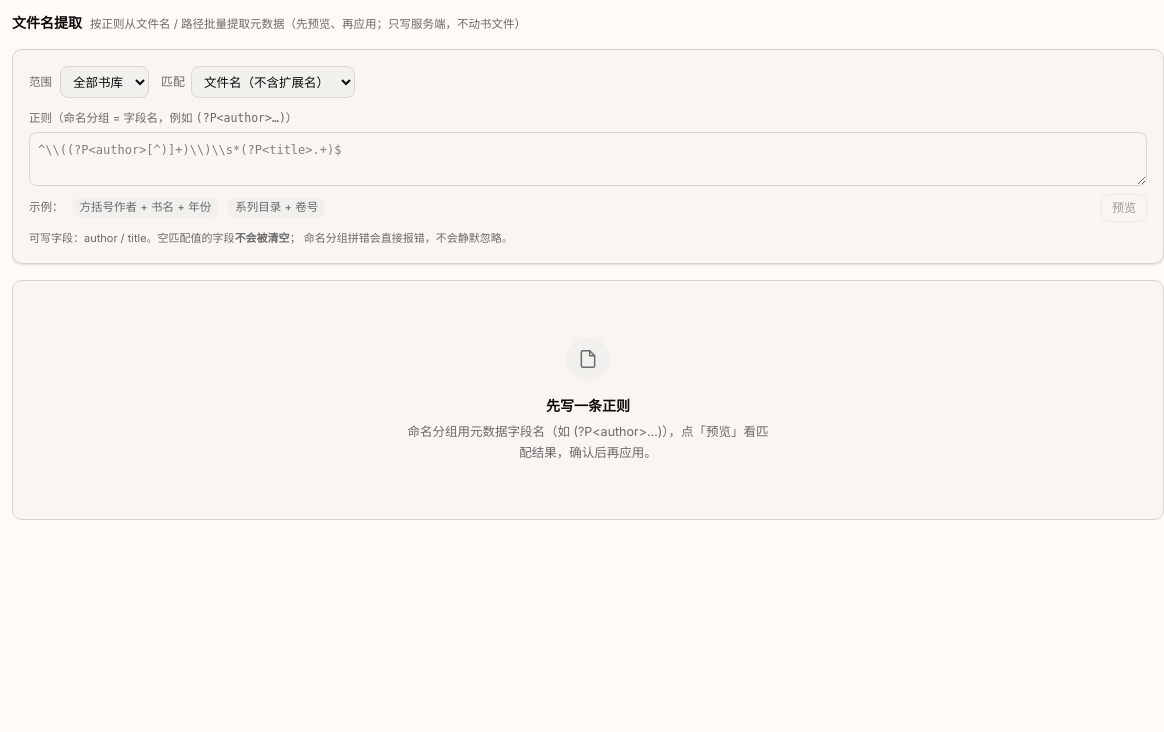
PathImportView › 应用：写入后重新预览（「会改写」归零），并显示回执
Type "^(?P<author>.+)$" into the text box named "提取正则" at point(588, 158), box [29, 132, 1147, 186]
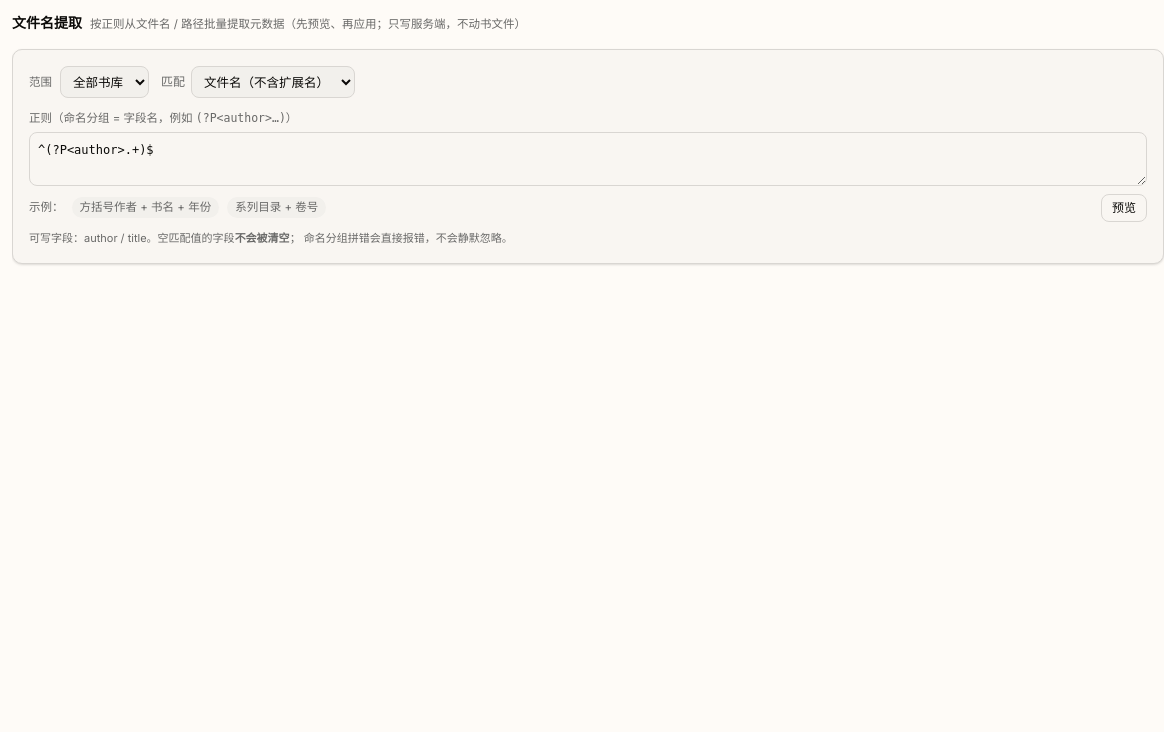
Click the button "预览" at point(1124, 208), box [1101, 194, 1147, 222]
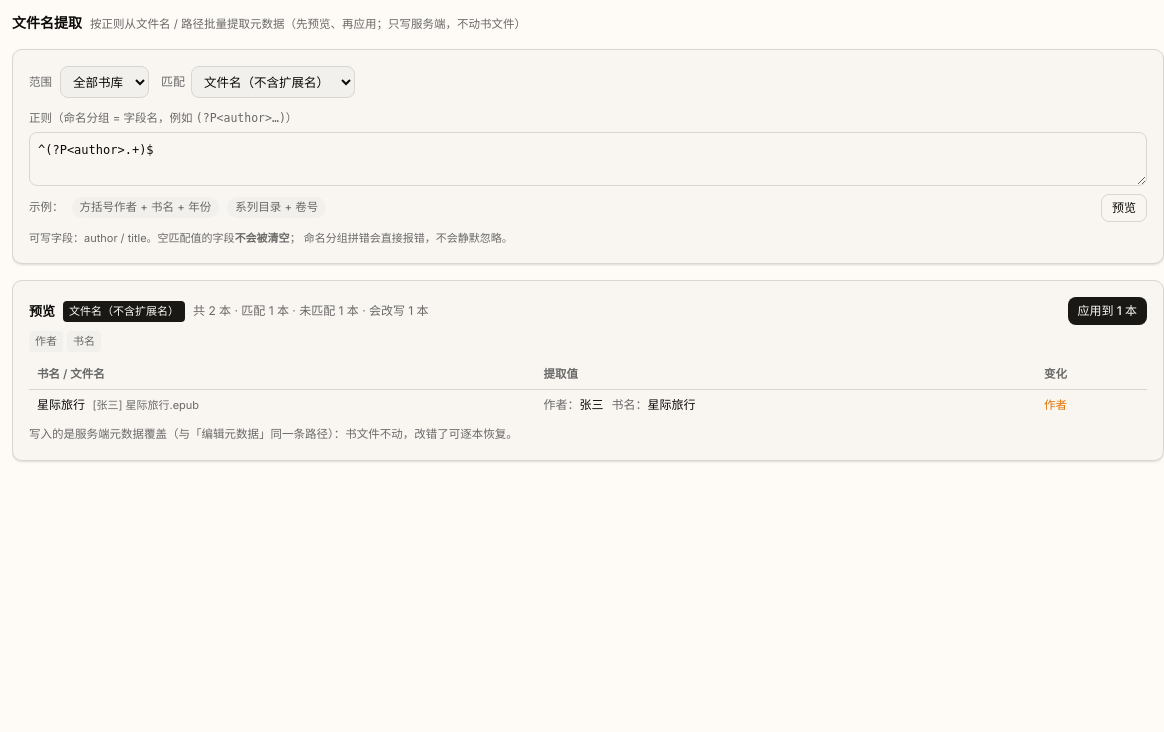
Check: the button "应用到 1 本" is shown
Click the button "应用到 1 本" at point(1107, 311), box [1068, 297, 1147, 325]
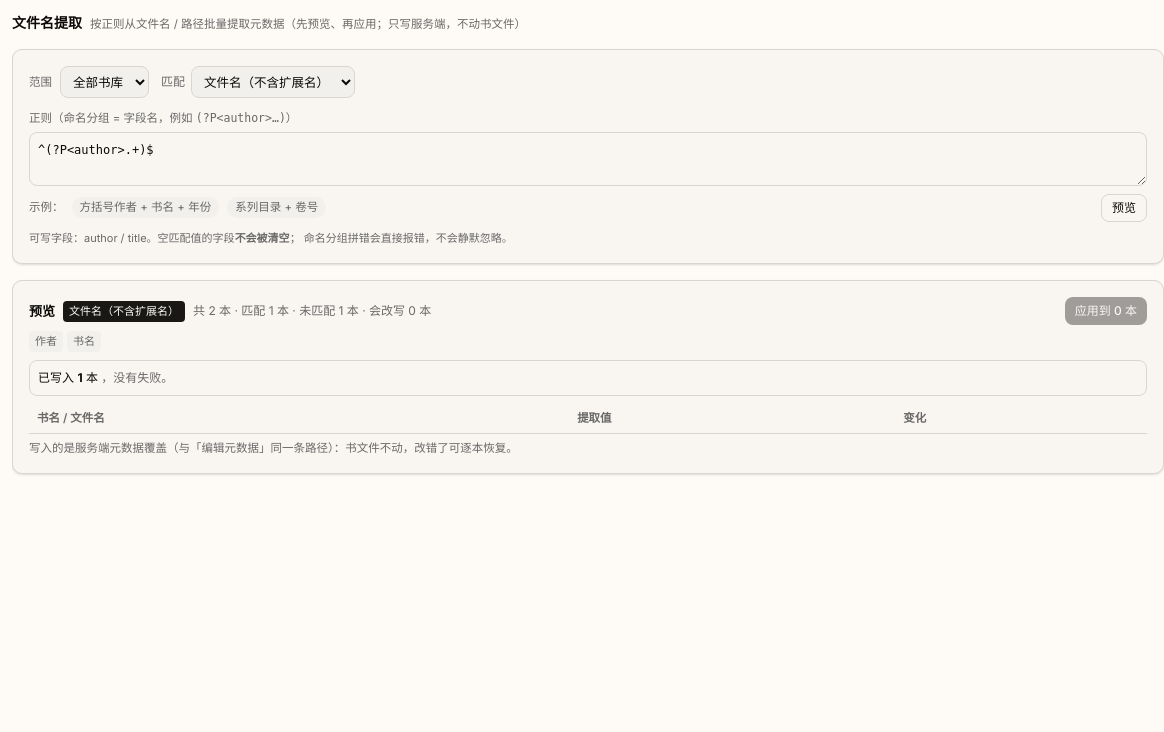
Check: the text "已写入" is shown, box [38, 370, 77, 385]
Check: the text "会改写 0 本" is shown, box [193, 303, 431, 318]
